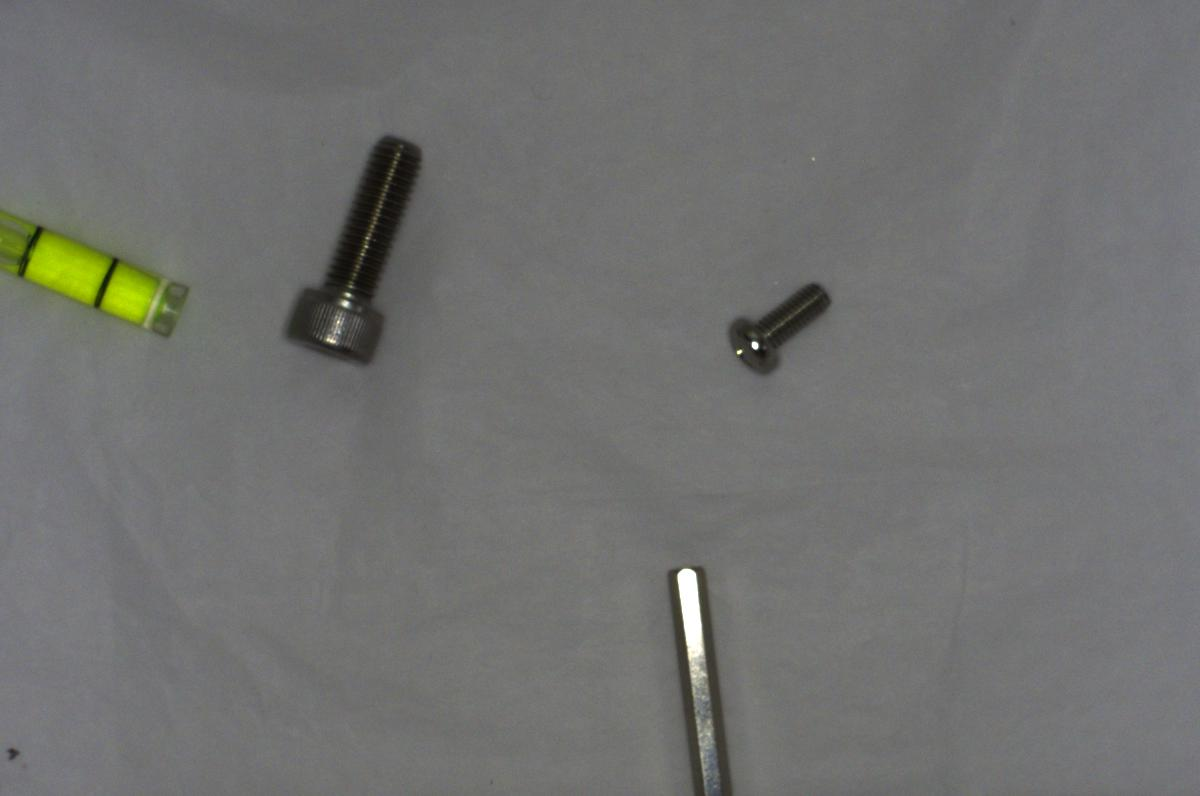Double hexagonal column: (664, 550, 743, 795)
Hexagon screw: (286, 133, 421, 369)
Horizontal bubble: (2, 205, 191, 343)
Round head screw: (721, 281, 832, 380)
